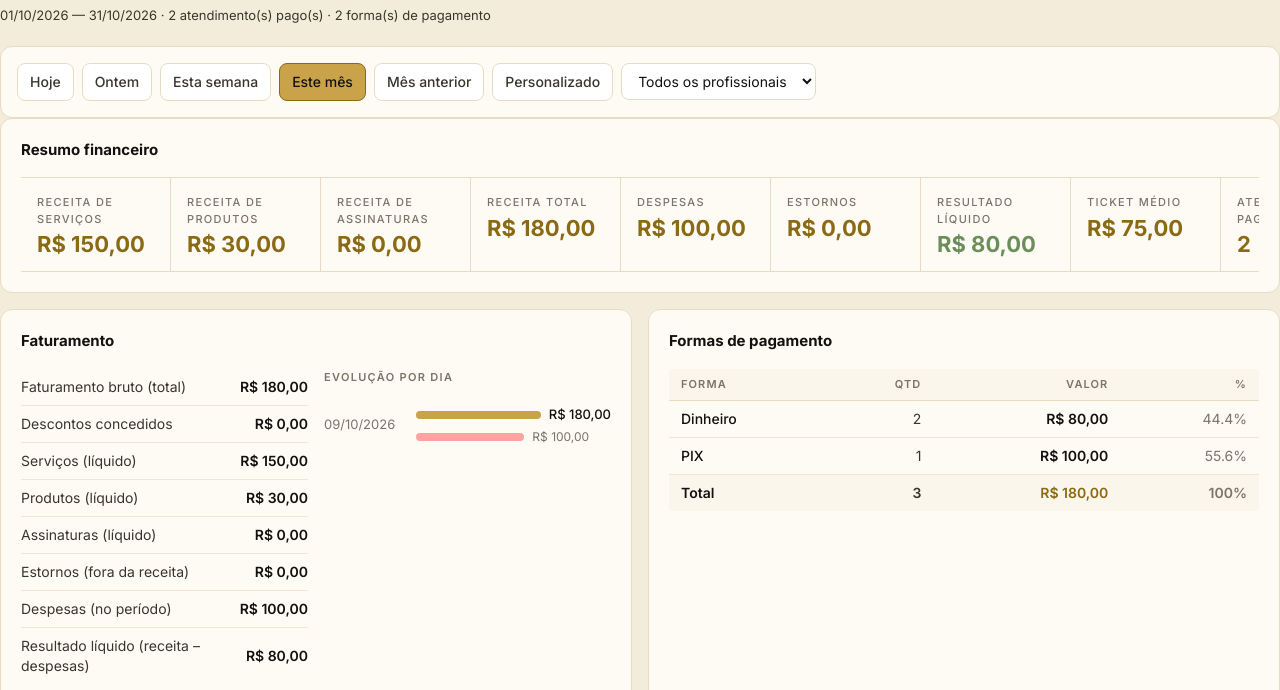
Scenario: Relatórios — filtros por período e profissional › Audax Club fica global e o CRM muda de escopo com o filtro
This screenshot has width=1280, height=690.
Select "Diego" in the dropdown named "Profissional" at point(719, 82), box [621, 63, 816, 100]
(page scrolled)
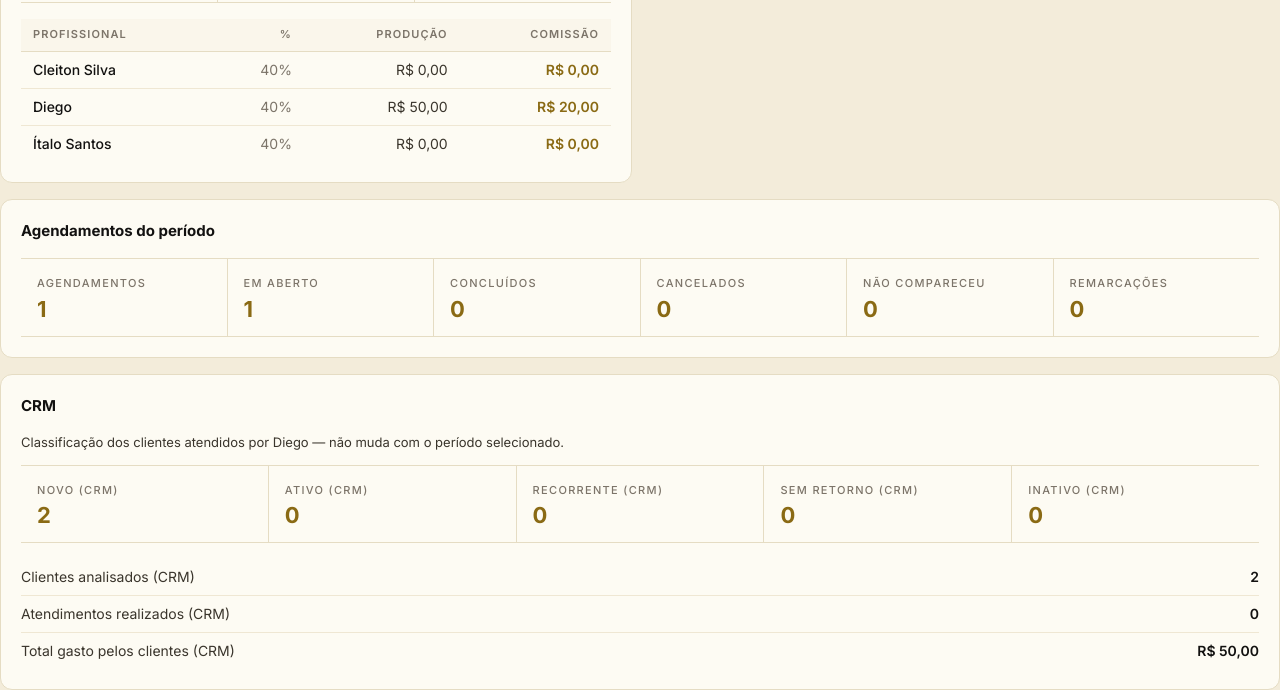
Check: the text "Classificação dos clientes atendidos por Diego — não muda com o período selecionado." is shown, box [21, 434, 564, 450]
